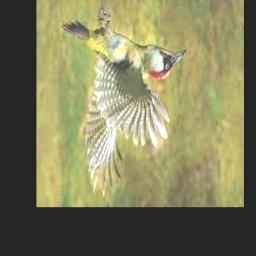Woodpecker: (60, 8, 187, 197)
